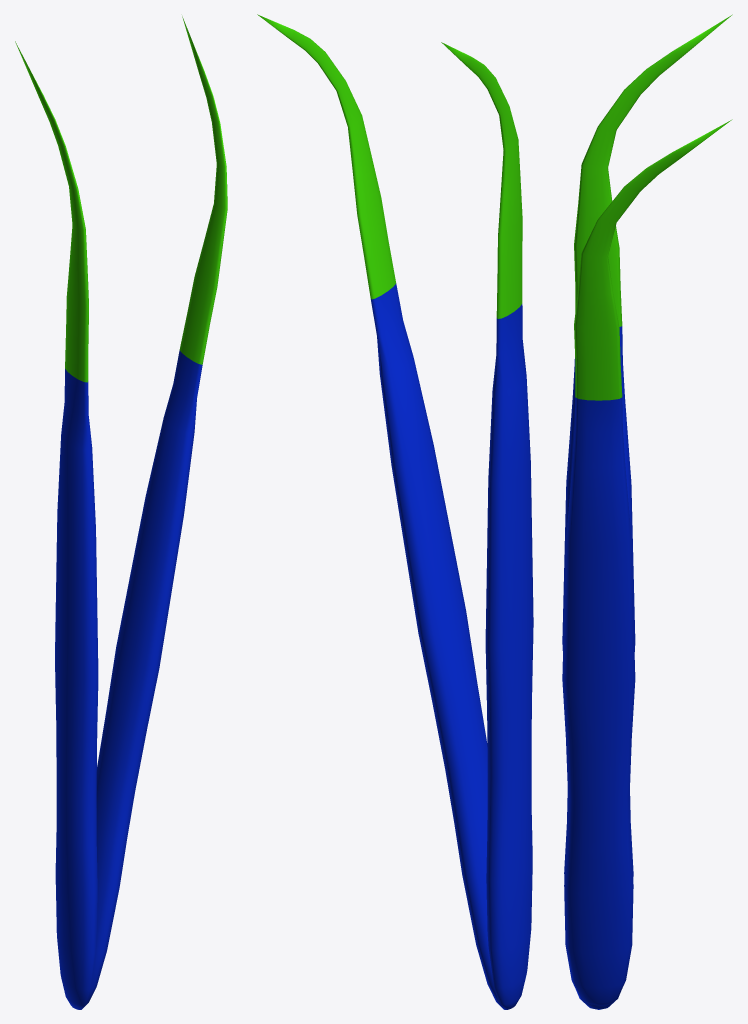
File: NewTweezers.fbx
3 renders of one model, left to right at view 1: azimuth 30°, elevation 25°; view 2: azimuth 150°, elevation 25°; view 3: azimuth 270°, elevation 25°, orthographic. The views are drawn at different scales.
Parts seen in each view (by area): view 1: Sphere, Sphere.001; view 2: Sphere, Sphere.001; view 3: Sphere.001, Sphere.
Part boxes in pixels (x1=…): Sphere: x1=15, y1=41, x2=98, y2=1009; Sphere.001: x1=86, y1=16, x2=227, y2=1003; Sphere: x1=441, y1=42, x2=533, y2=1009; Sphere.001: x1=257, y1=14, x2=498, y2=1002; Sphere.001: x1=562, y1=119, x2=732, y2=1005; Sphere: x1=562, y1=14, x2=732, y2=1009.
Bounding box in the file's own units: 2.47 × 11.98 × 1.87.
